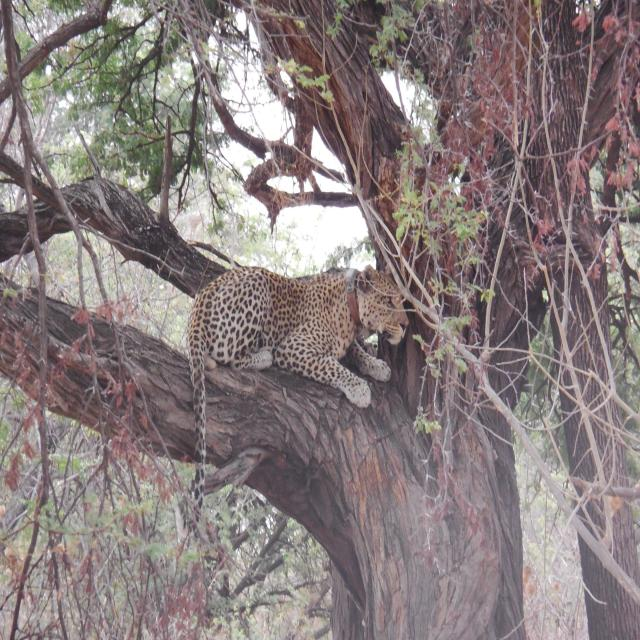Leopard: (174, 261, 409, 548)
